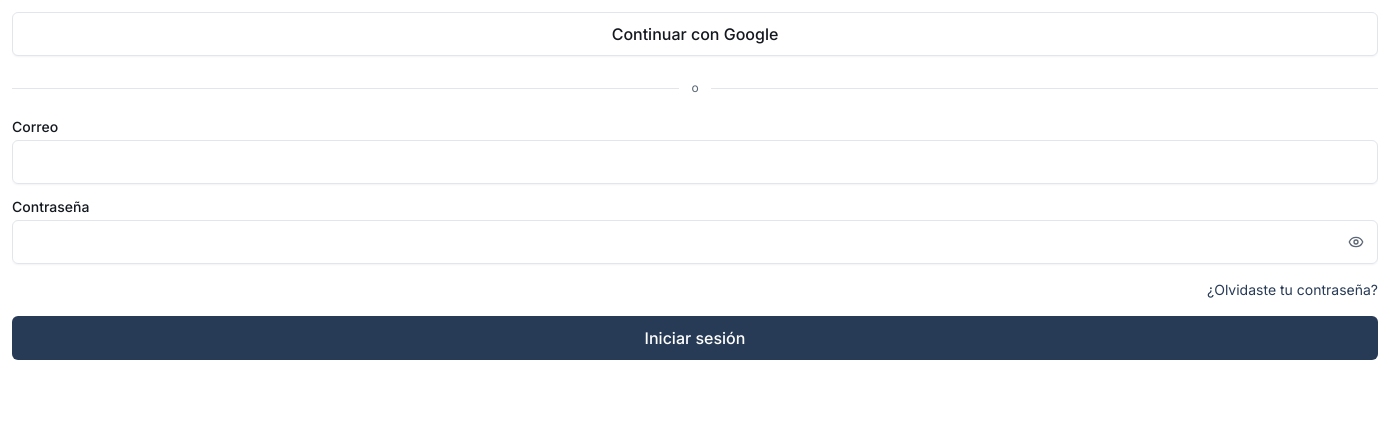
Scenario: LoginForm › muestra el error de credenciales inválidas sin código técnico
The width and height of the screenshot is (1390, 431).
Type "juan@trazio.com.ar" into the field labelled "Correo" at coordinates (695, 162), box 12,140 -> 1378,184
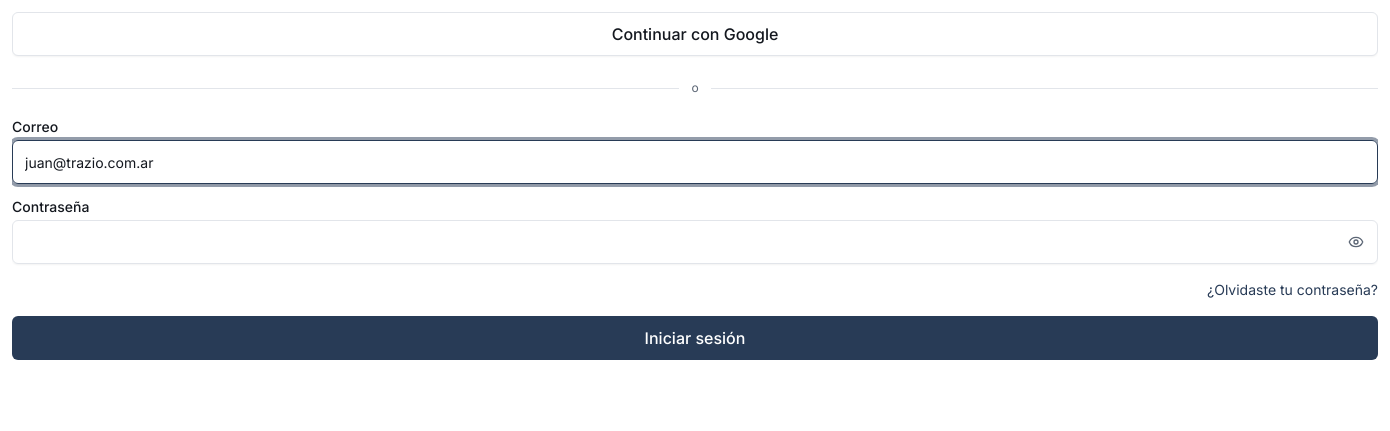
Type "incorrecta" into the password field labelled "Contraseña" at coordinates (695, 242), box 12,220 -> 1378,264
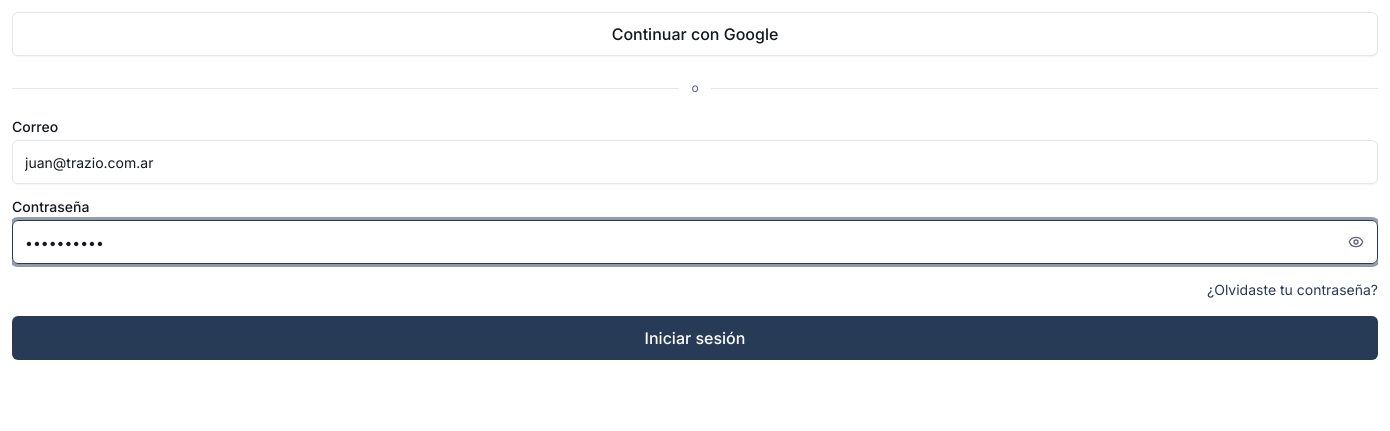
Click the button "Iniciar sesión" at coordinates (695, 338), box 12,316 -> 1378,360
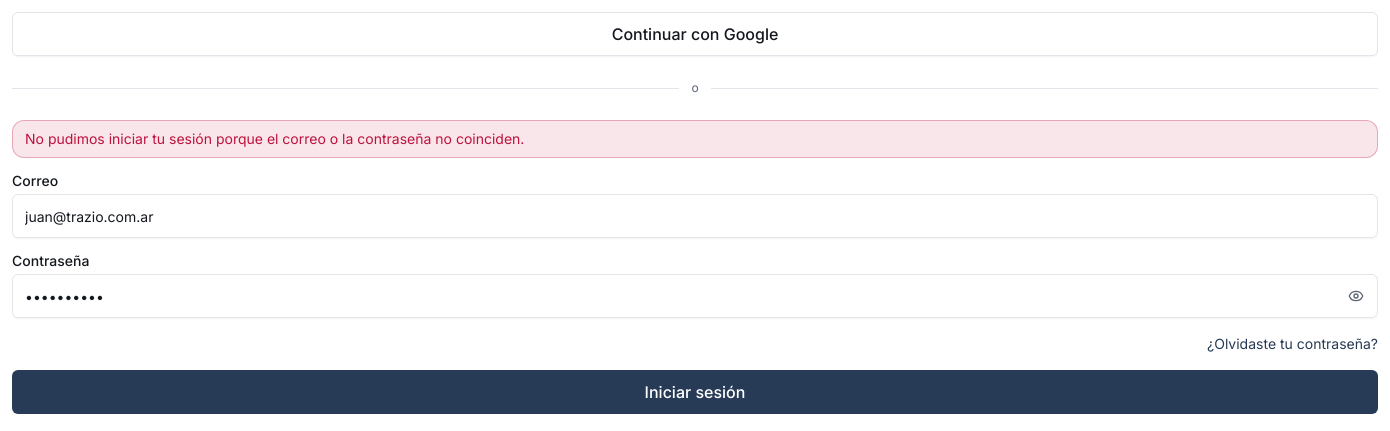
expect the message shows "el correo o la contraseña no coinciden": met, box 25,130 -> 524,147
